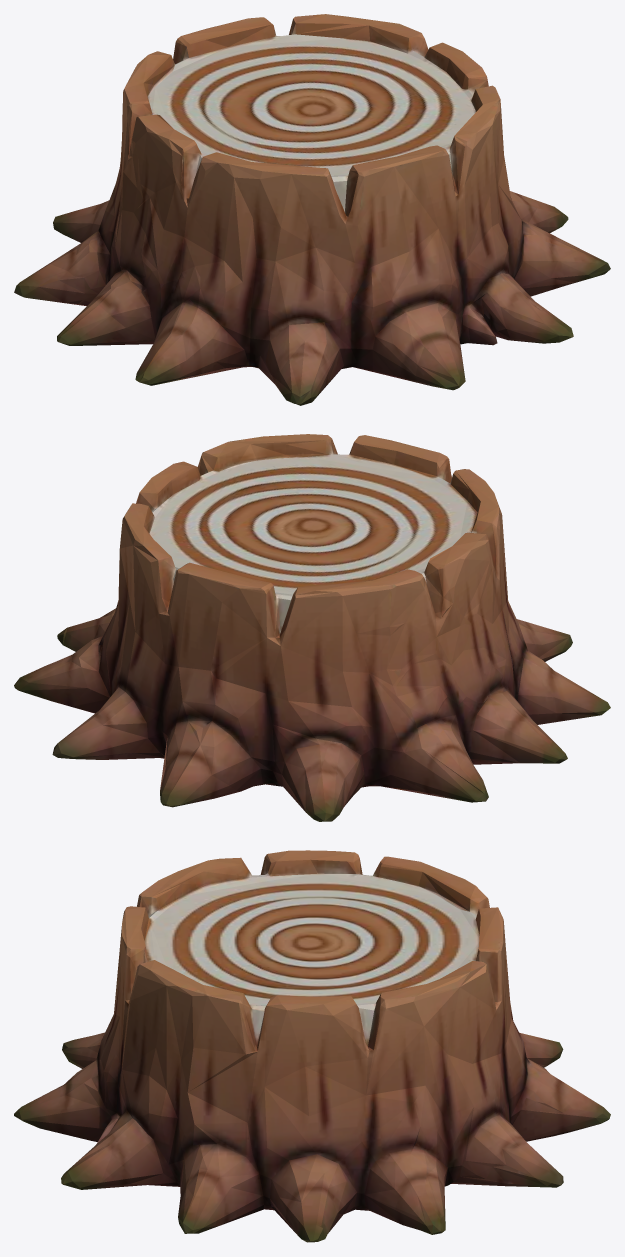
The model's file is stump.glb.
3 renders of one model, top to bottom at view 1: azimuth 30°, elevation 25°; view 2: azimuth 150°, elevation 25°; view 3: azimuth 270°, elevation 25°, orthographic.
Visible parts, largest first — view 1: tmp7_7ggk6o.ply; view 2: tmp7_7ggk6o.ply; view 3: tmp7_7ggk6o.ply.
Boxes of the visible parts, <box> form: tmp7_7ggk6o.ply: <box>14,14,610,405</box>; tmp7_7ggk6o.ply: <box>14,434,610,821</box>; tmp7_7ggk6o.ply: <box>14,850,610,1242</box>.
Size of the model in its own units: 1.99 by 0.7494 by 1.99.
Materials: 1 (1 with a texture image).
